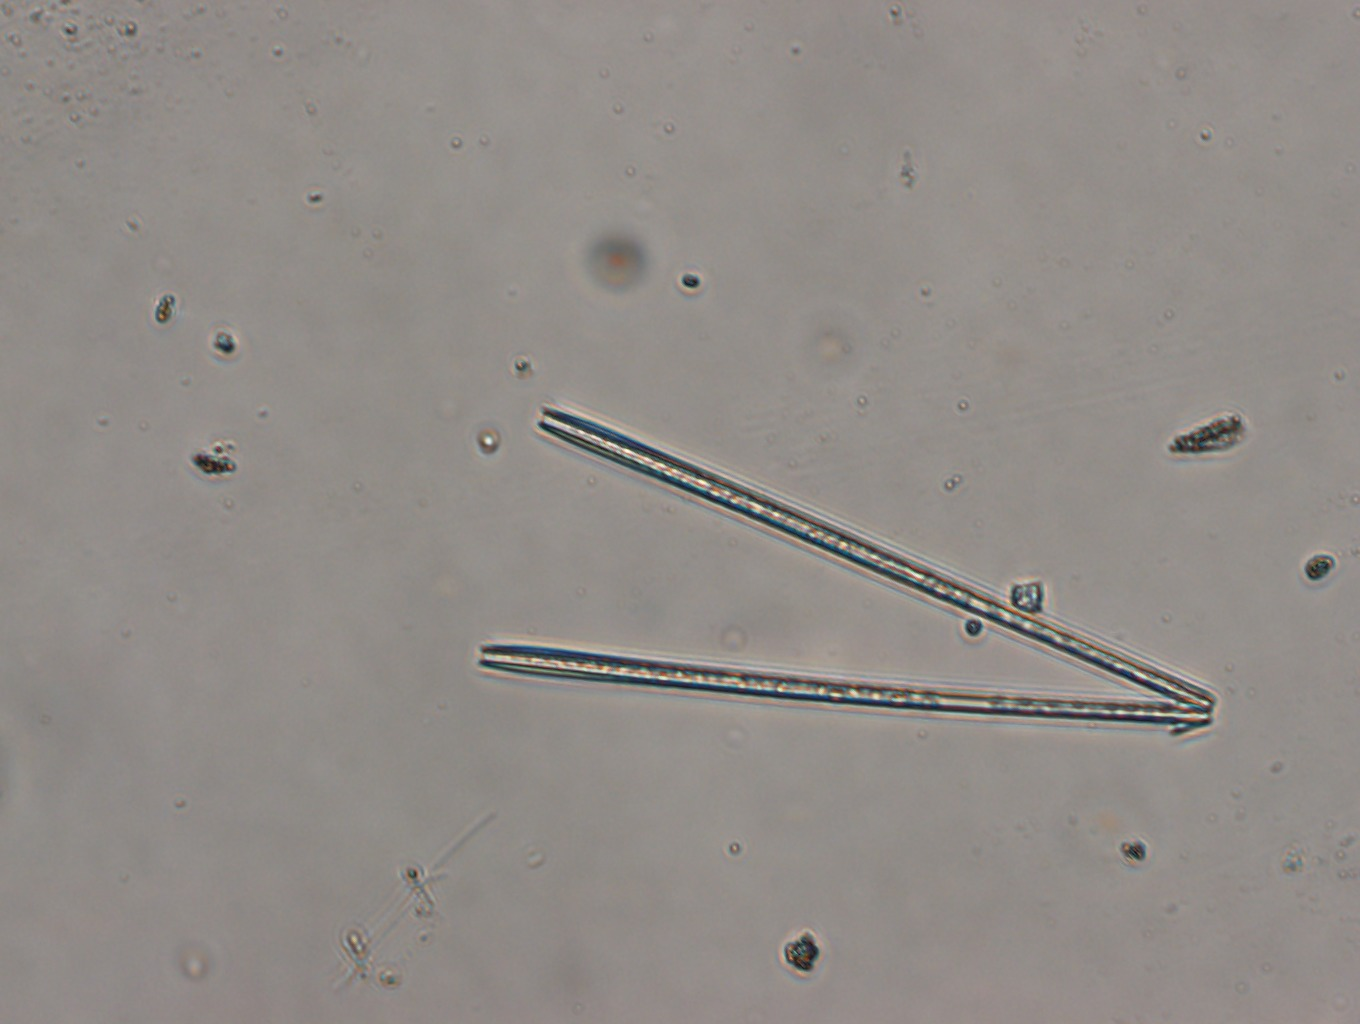thalassionema frauenfeldii: (477, 404, 1215, 726)
